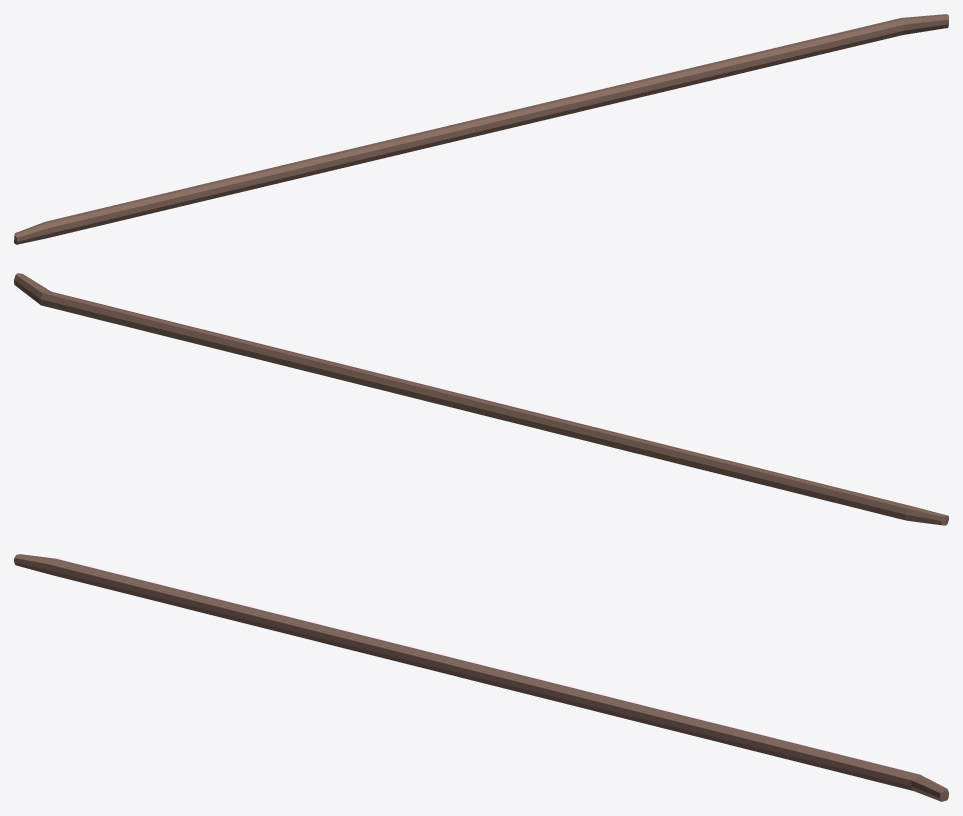
Rendered from Wooden_Rod_7_low.fbx.
3 views of the same model, one above another, from view 1: azimuth 30°, elevation 25°; view 2: azimuth 150°, elevation 25°; view 3: azimuth 330°, elevation 25° (orthographic). The views are drawn at different scales.
Parts seen in each view (by area): view 1: Wooden_Rod_7_low; view 2: Wooden_Rod_7_low; view 3: Wooden_Rod_7_low.
Boxes of the visible parts, x1,y1,x2,y2 form: Wooden_Rod_7_low: (14, 14, 948, 244); Wooden_Rod_7_low: (14, 273, 948, 525); Wooden_Rod_7_low: (14, 554, 948, 801).
Size of the model in its own units: 6.58 by 0.1045 by 0.2523.
